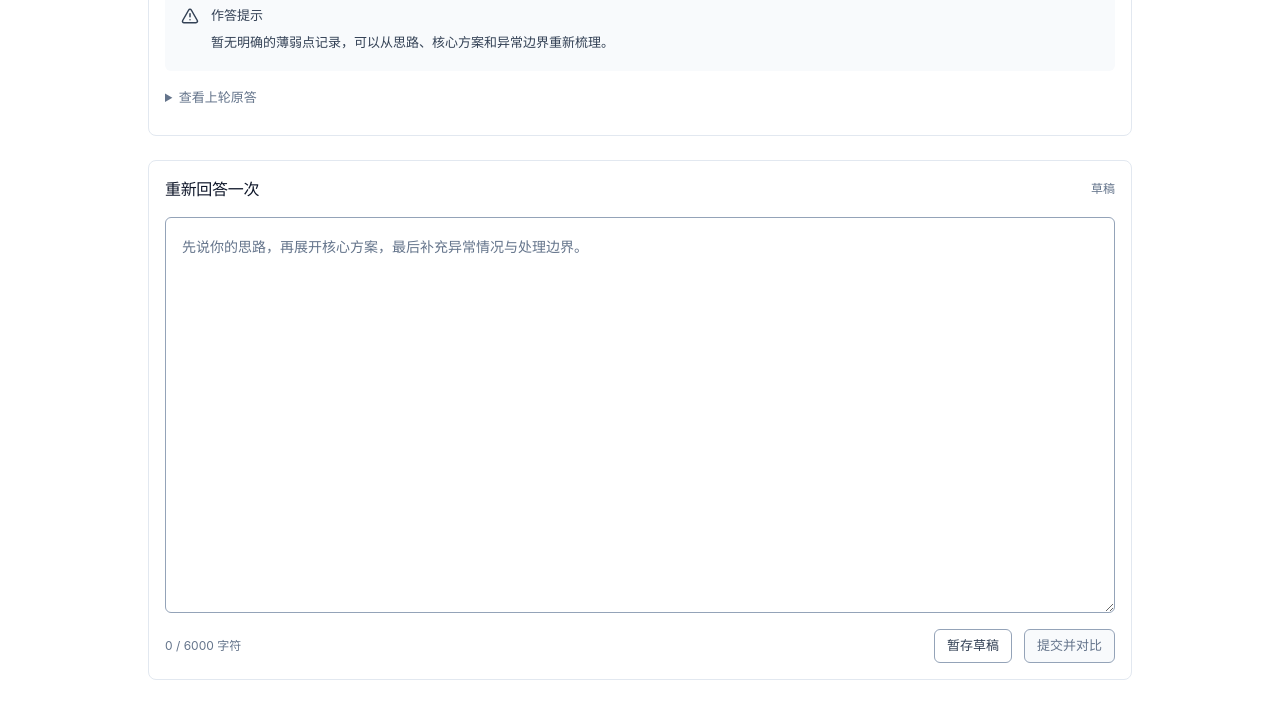
Test: 查询参数引起页面重建时，对比结果仍自动出现且不重复提交
(page scrolled)
Step 1. Type "本次完整回答" into the text box with placeholder "先说你的思路，再展开核心方案，最后补充异常情况与处理边界。" → x=640, y=415, box [165, 217, 1115, 613]
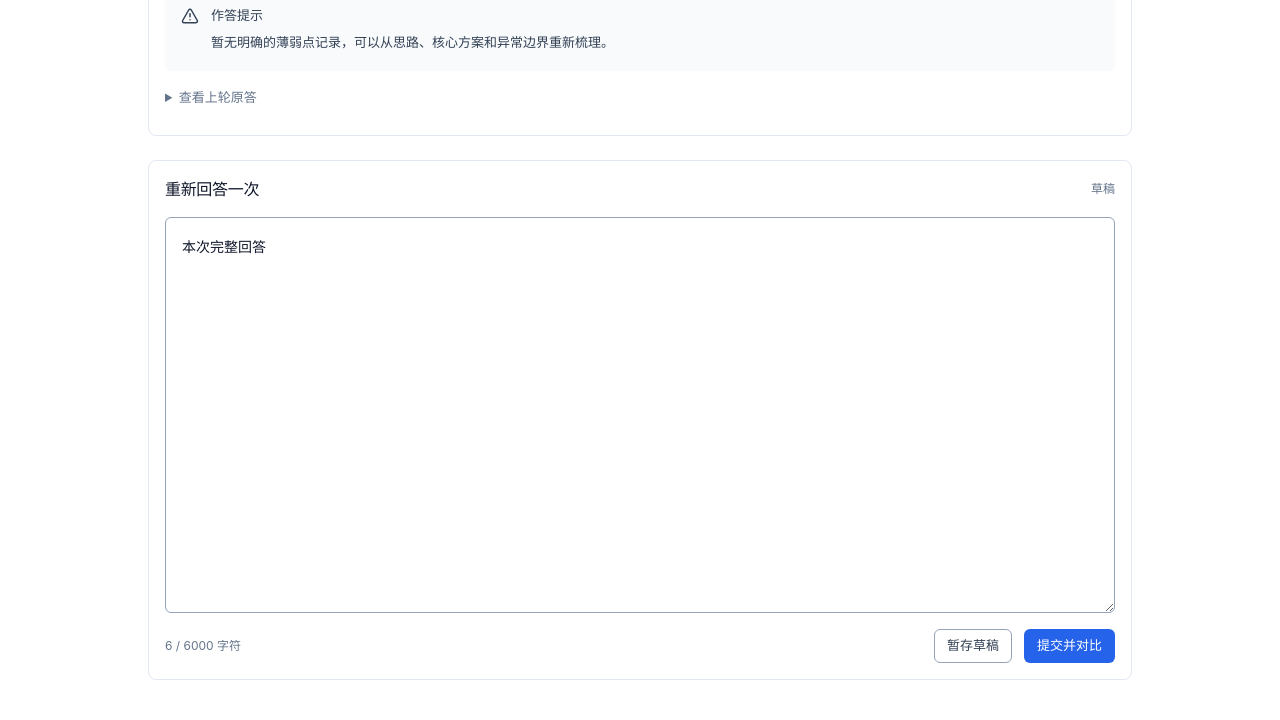
Step 2. Click the button "提交并对比" → x=1070, y=646, box [1024, 629, 1115, 663]
(page scrolled)
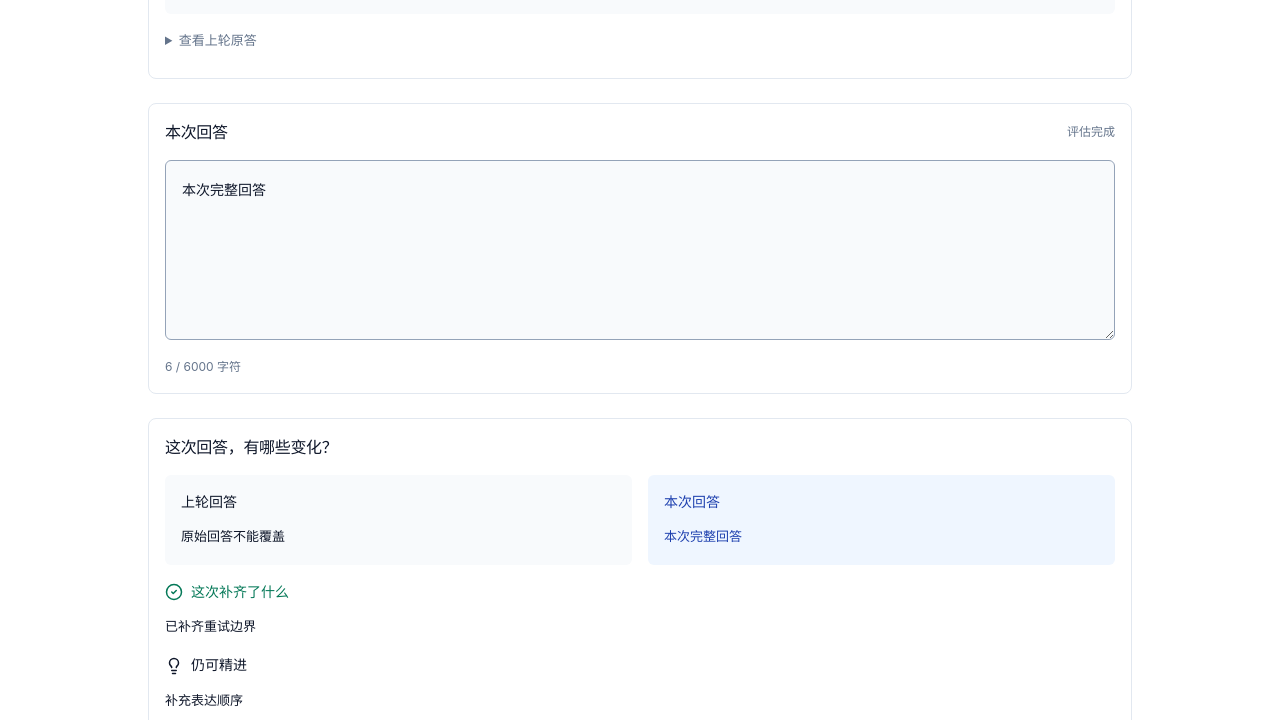
Expected: the text "已补齐重试边界" is shown, [165, 618, 256, 634]
